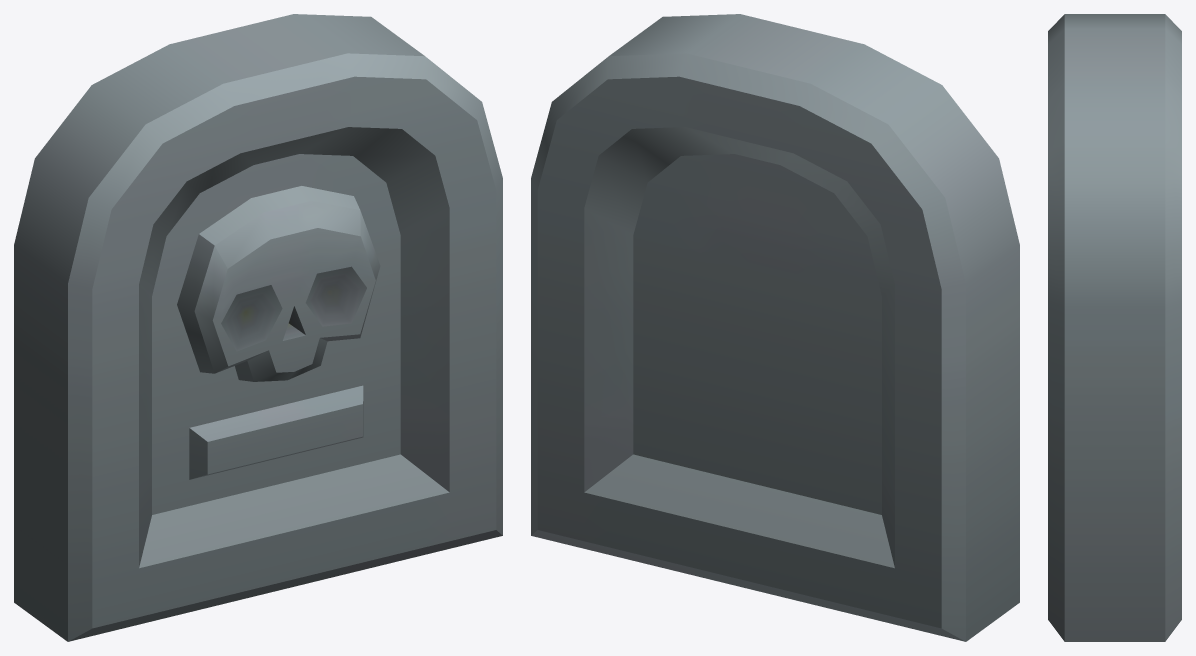
Rendered from kay-lapide.gltf.
The picture shows the model from 3 angles, left to right: view 1: azimuth 30°, elevation 25°; view 2: azimuth 150°, elevation 25°; view 3: azimuth 270°, elevation 25°; orthographic projection. The views are drawn at different scales.
Visible parts, largest first — view 1: gravestone; view 2: gravestone; view 3: gravestone.
Boxes of the visible parts, x1,y1,x2,y2 form: gravestone: (14,14,502,641); gravestone: (531,14,1019,641); gravestone: (1048,14,1181,641).
Size of the model in its own units: 0.7 by 0.8 by 0.2.
1 material, 1 textured.
